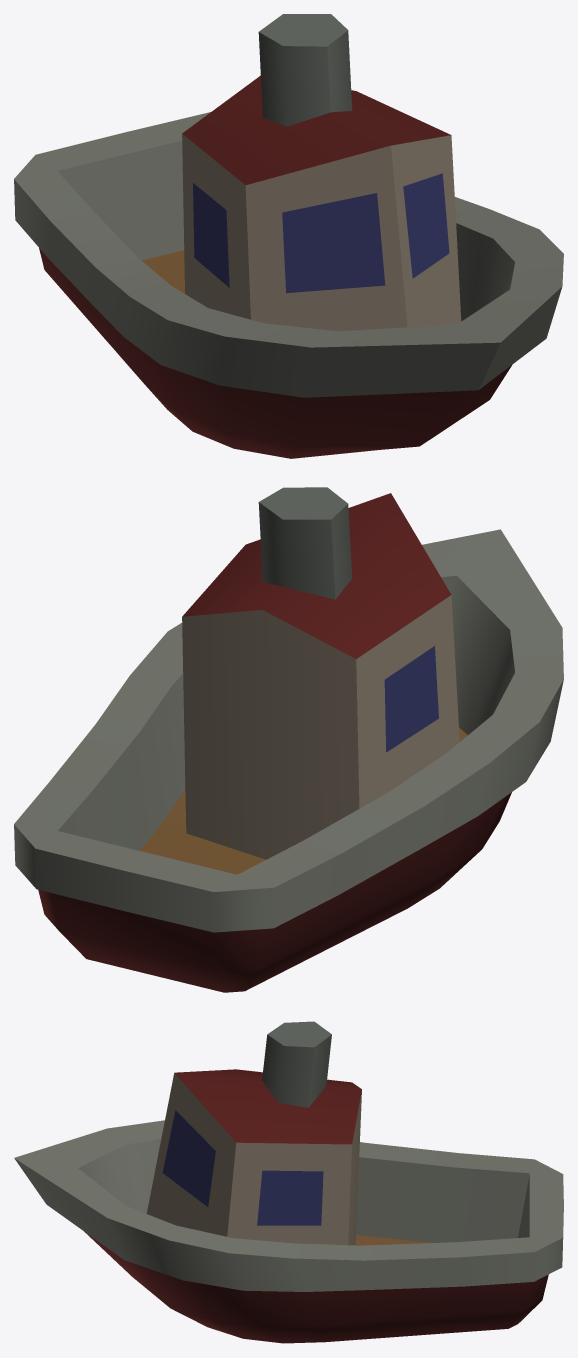
The model's file is MSH_Boat.glb.
3 renders of one model, top to bottom at view 1: azimuth 30°, elevation 25°; view 2: azimuth 150°, elevation 25°; view 3: azimuth 270°, elevation 25°, orthographic. The views are drawn at different scales.
Parts seen in each view (by area): view 1: MSH_Boat; view 2: MSH_Boat; view 3: MSH_Boat.
Boxes of the visible parts, x1,y1,x2,y2 form: MSH_Boat: (14,14,563,458); MSH_Boat: (14,487,563,992); MSH_Boat: (14,1021,563,1343).
Size of the model in its own units: 1.29 by 1.24 by 2.26.
